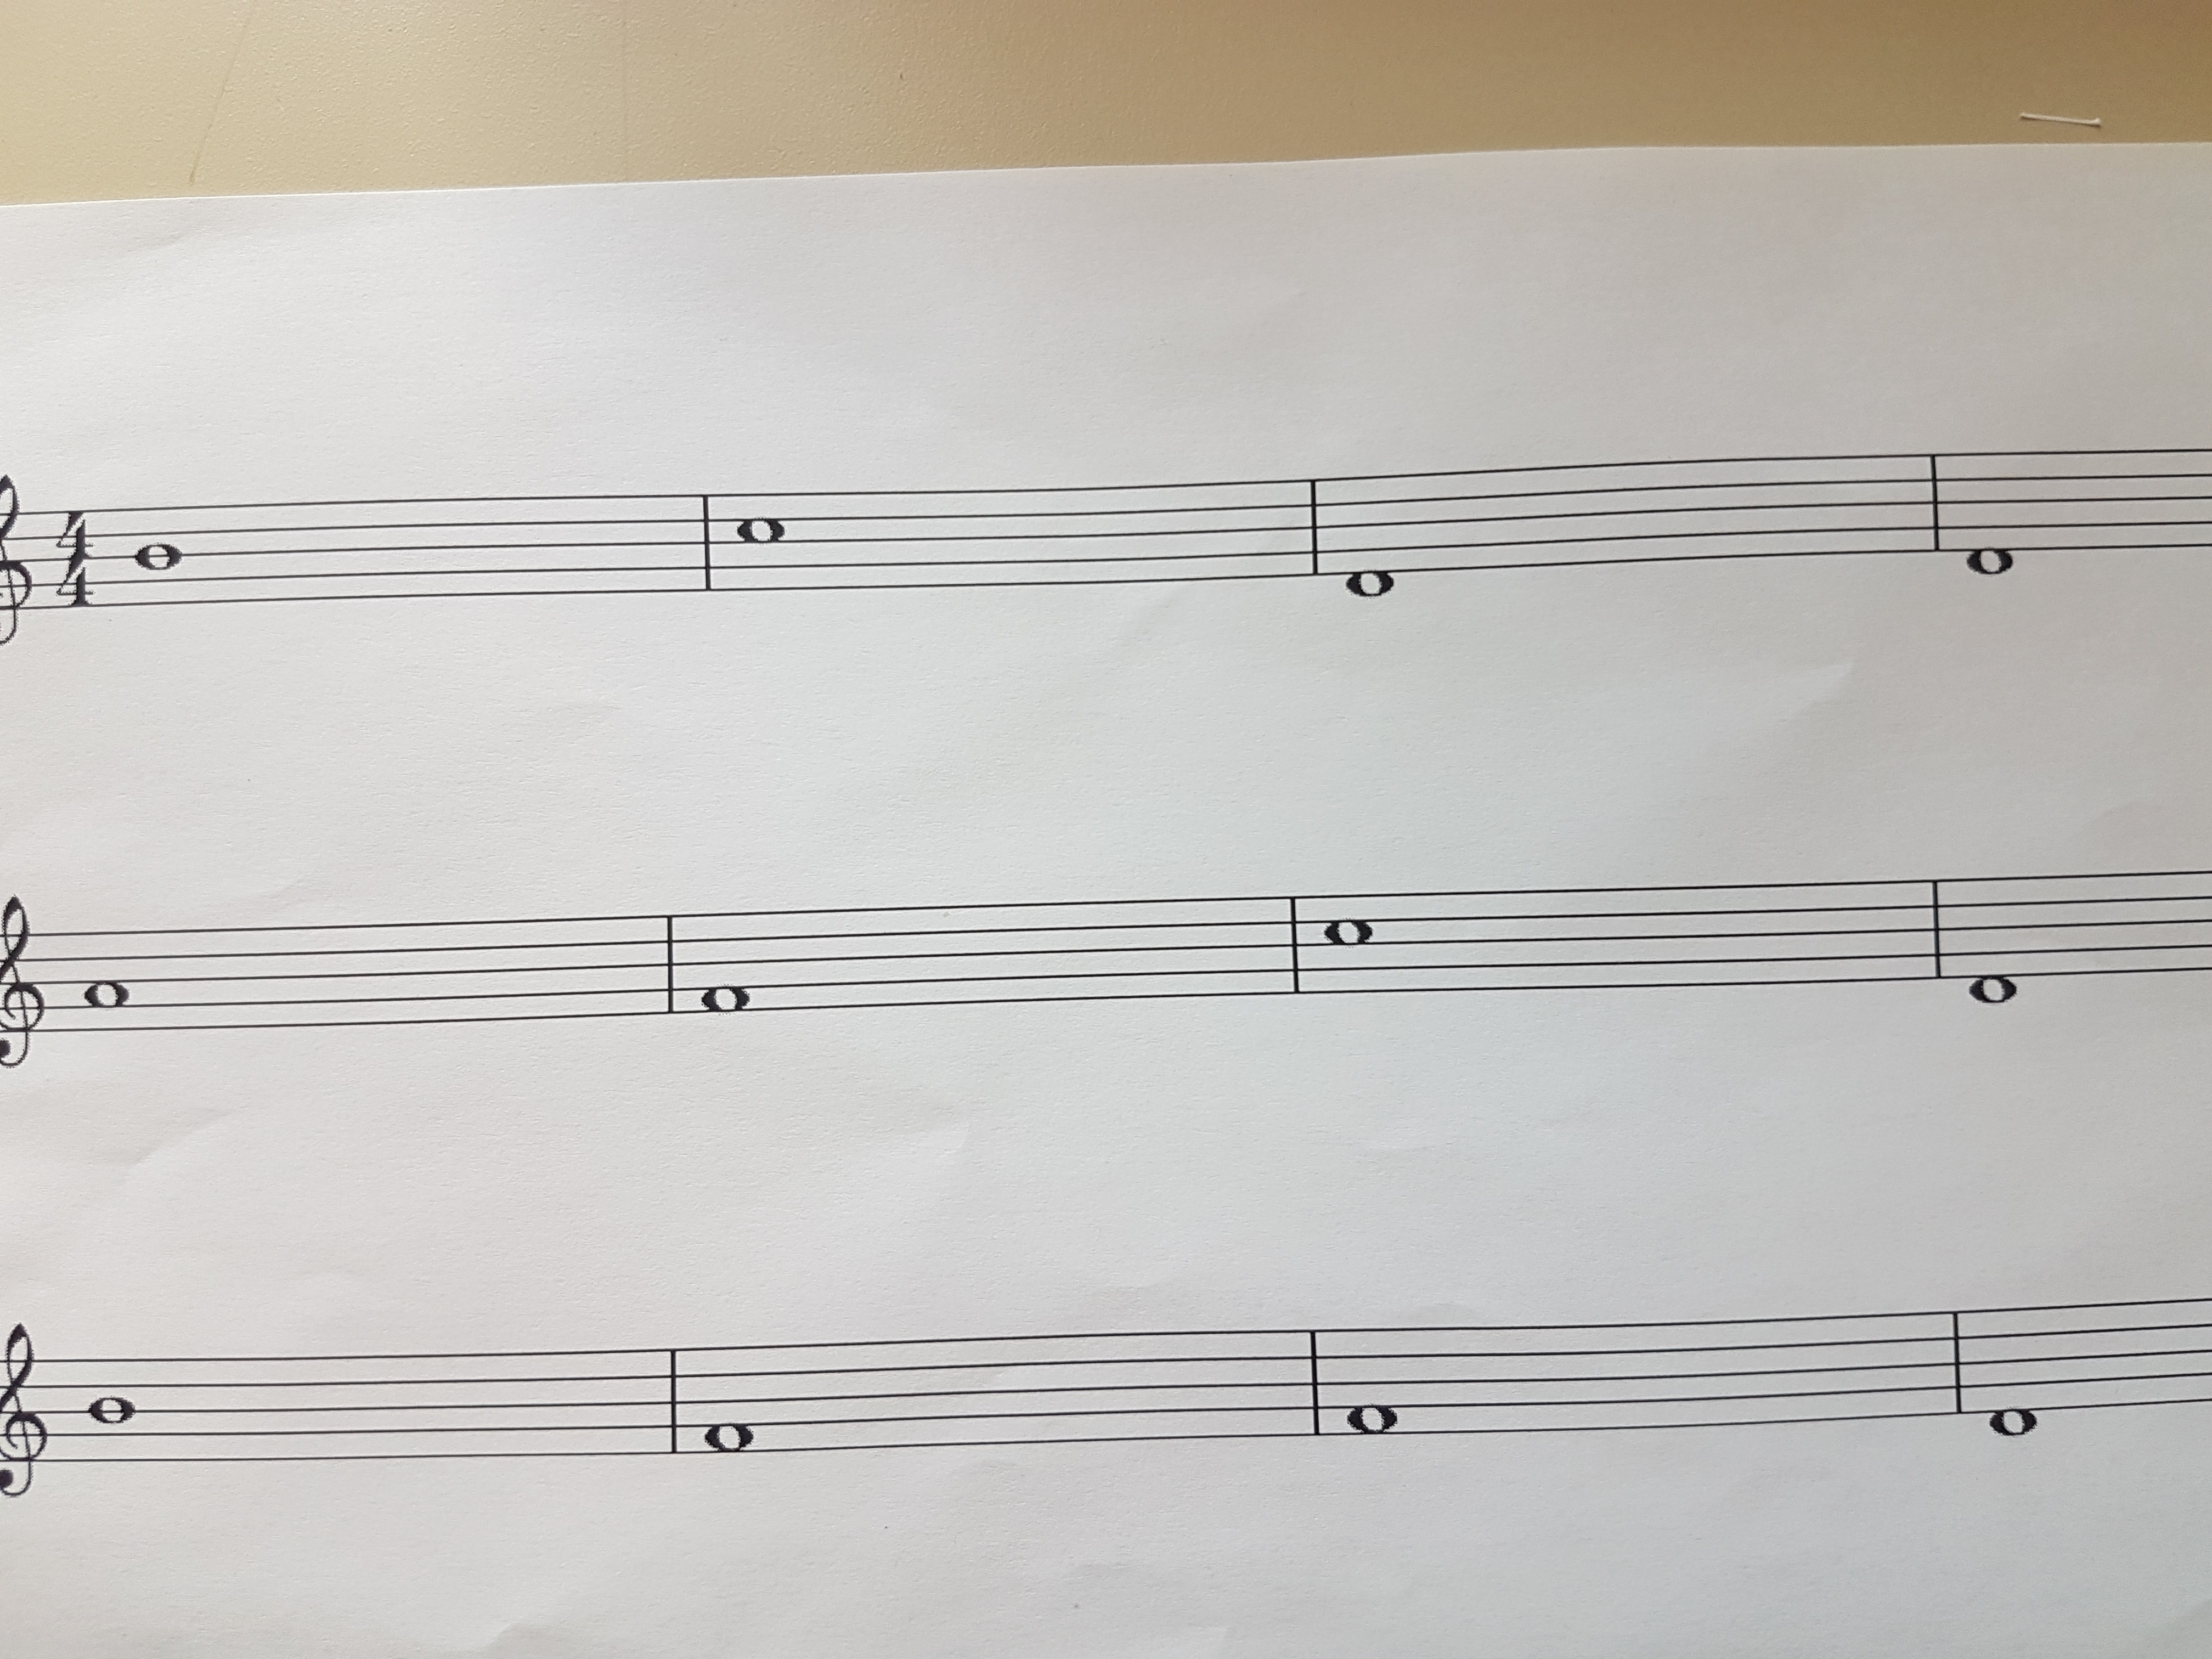pipe: (655, 1333, 690, 1471), (1299, 1314, 1331, 1453), (657, 903, 685, 1028), (1280, 882, 1308, 1007), (1921, 863, 1947, 993), (1946, 1295, 1970, 1434), (691, 483, 719, 601), (1301, 469, 1327, 592), (1923, 437, 1947, 561)
semibreve_a: (77, 904, 136, 1061)
semibreve_c: (1318, 863, 1378, 1021), (732, 462, 789, 613)
semibreve_d: (1982, 1274, 2045, 1460), (1959, 429, 2022, 603), (1963, 852, 2024, 1030), (1338, 451, 1400, 622)
semibreve_f: (697, 1316, 759, 1490), (1343, 1300, 1400, 1478), (695, 889, 754, 1049)
semibreve_h: (78, 1331, 143, 1499), (125, 477, 192, 634)
